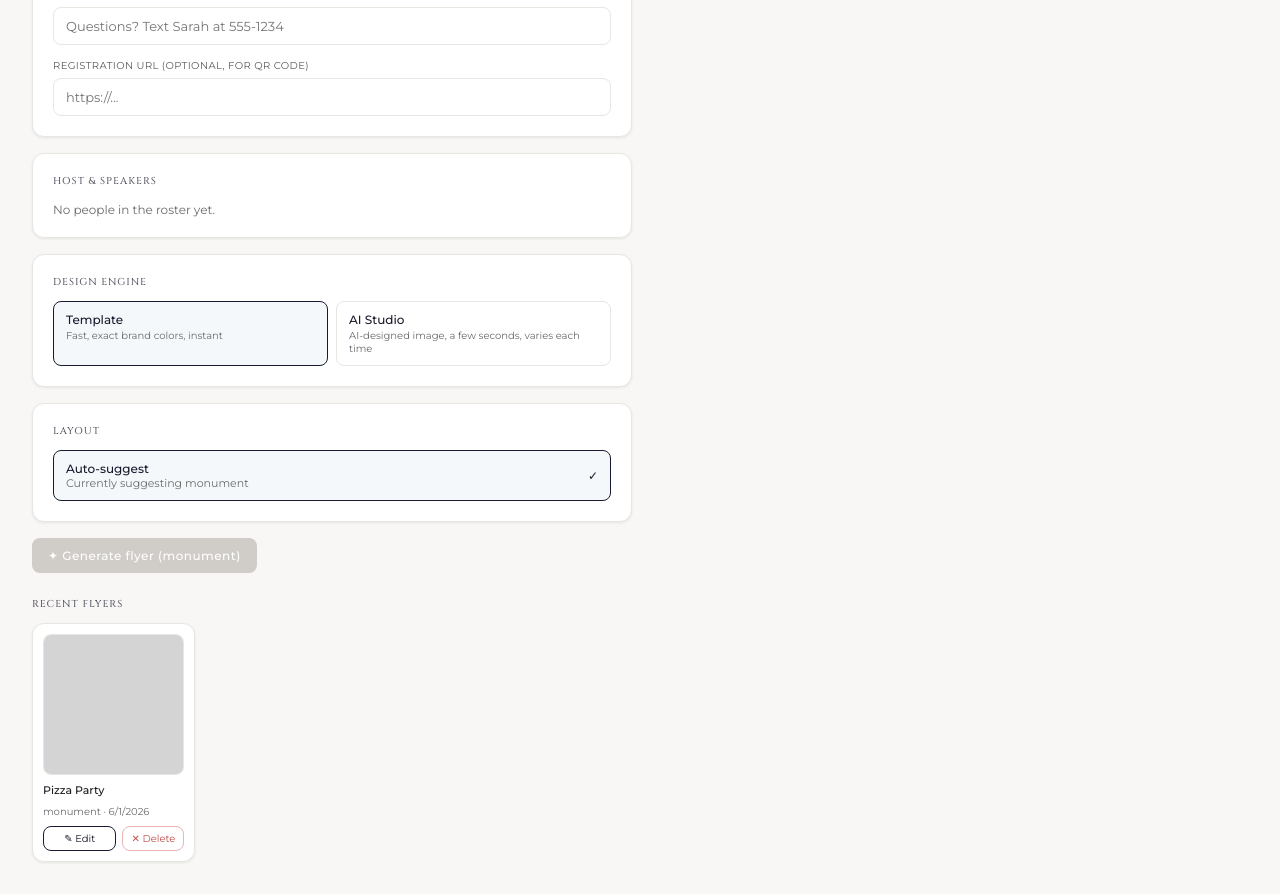
Test: clicking Edit on a legacy flyer (no raw date fields) restores its content into the form, leaving date/time/rsvp_by blank
(page scrolled)
Click the button "✎ Edit" at (80,839), box x1=43 y1=826 x2=116 y2=851
(page scrolled)
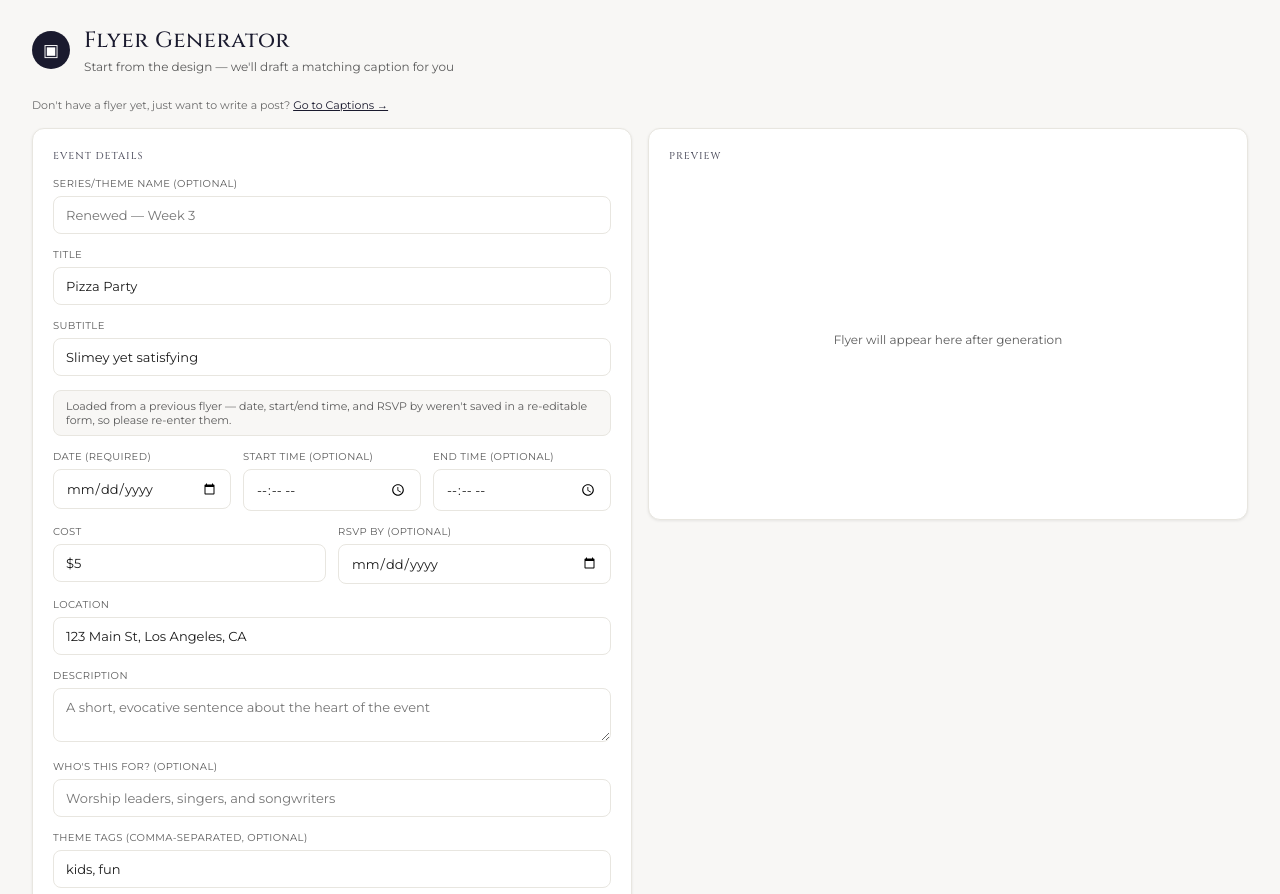
Result: the 1st field with placeholder "Worship Workshop" holds "Pizza Party" at x1=53 y1=267 x2=611 y2=305
Result: the field with placeholder "123 Main St, Atlanta GA" below "Location" holds "123 Main St, Los Angeles, CA" at x1=53 y1=617 x2=611 y2=655
Result: the text "weren't saved in a re-editable" is shown at x1=66 y1=399 x2=587 y2=427
